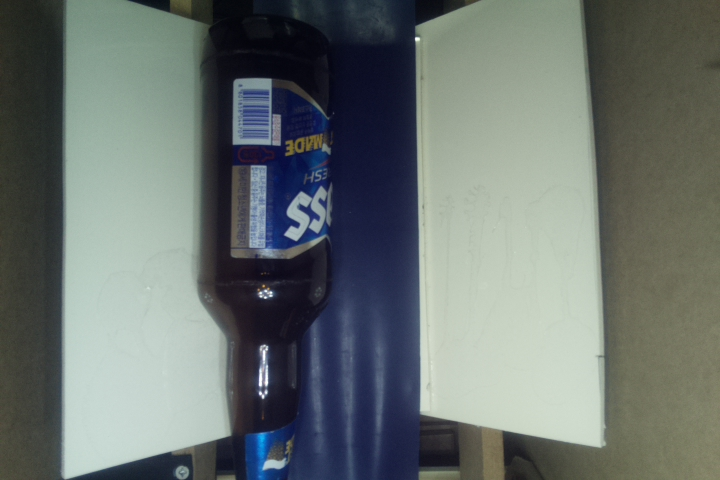makju: (198, 19, 337, 479)
